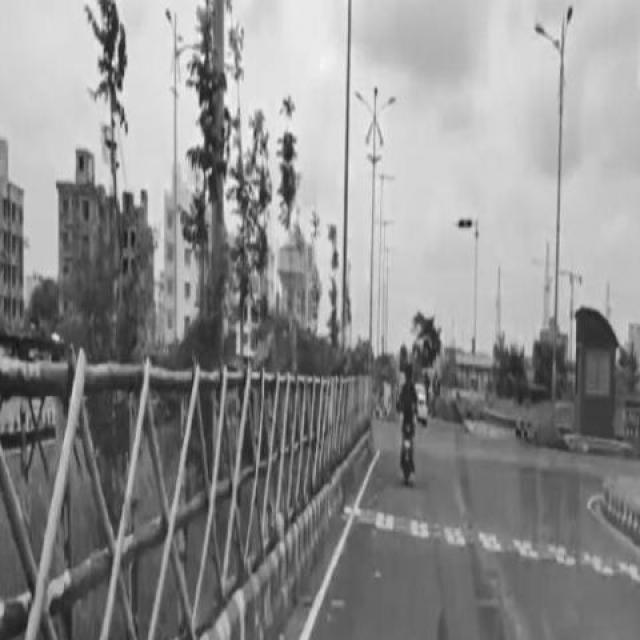Speed Bump: (338, 502, 638, 588)
